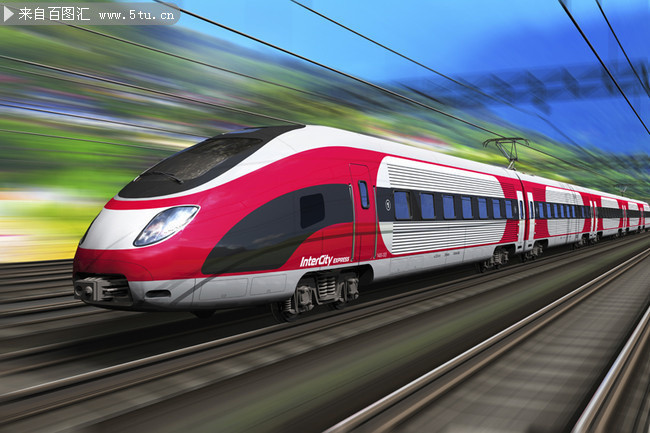hsrw: (70, 123, 650, 320)
